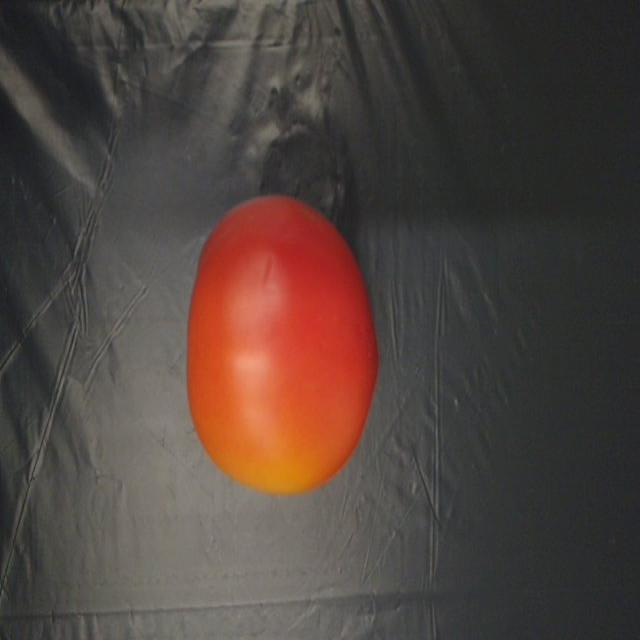sari: (146, 261, 398, 510)
